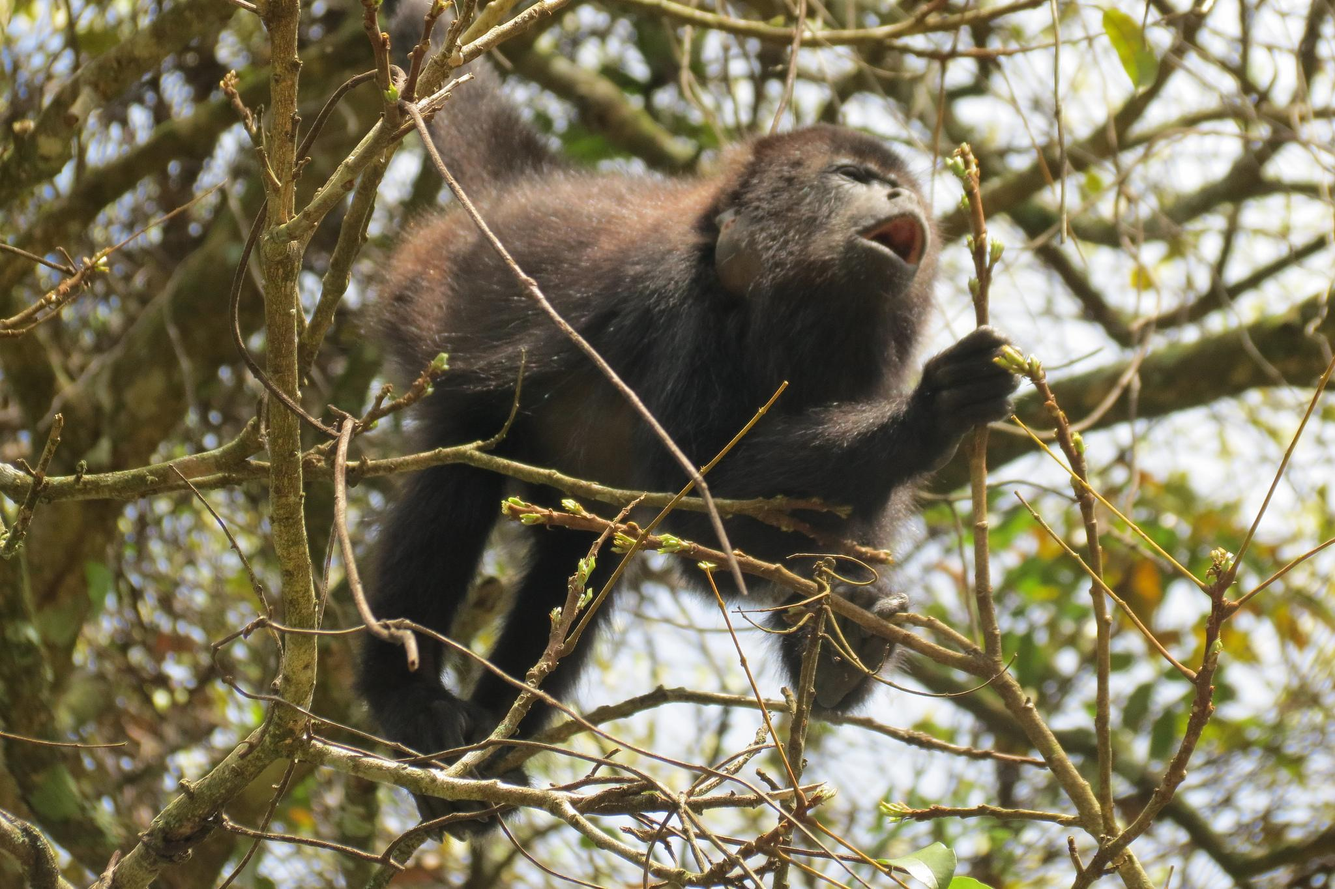monkey: (363, 126, 1030, 713)
